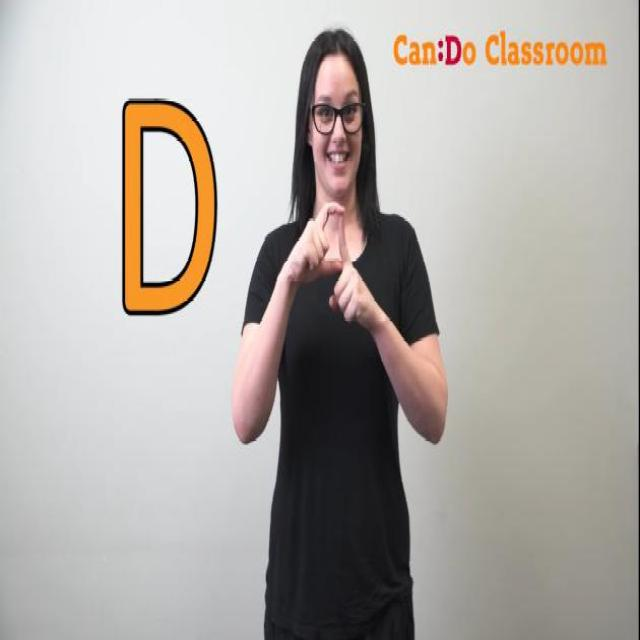D: (285, 166, 381, 359)
